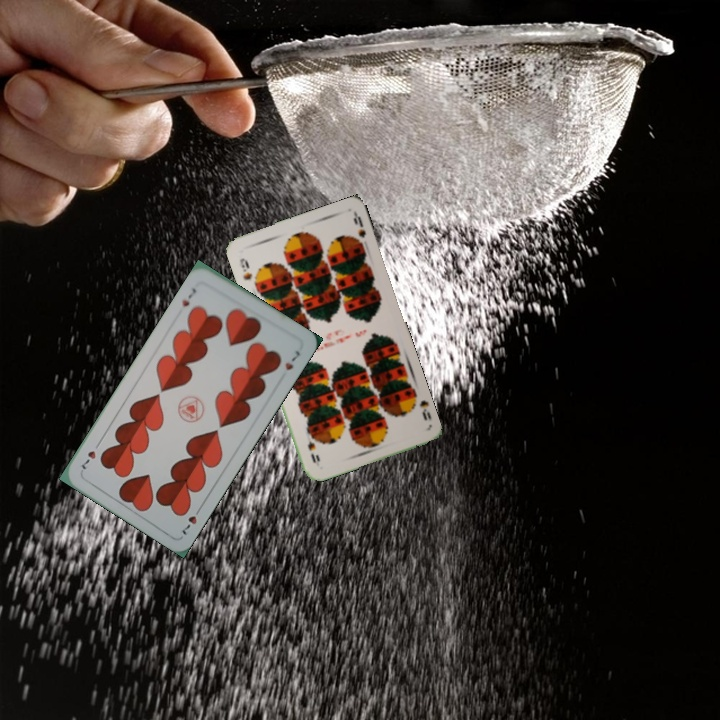H7: (178, 502, 205, 538), (178, 284, 199, 309)
S9: (236, 254, 255, 283), (415, 396, 434, 423)
